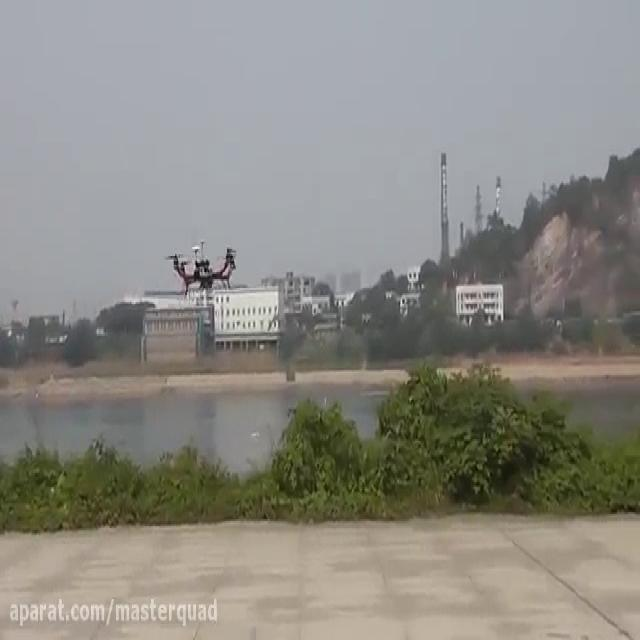drone: (162, 233, 240, 297)
